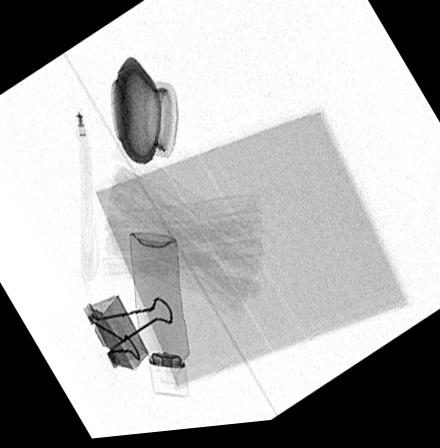Sprayer: (128, 234, 189, 402)
